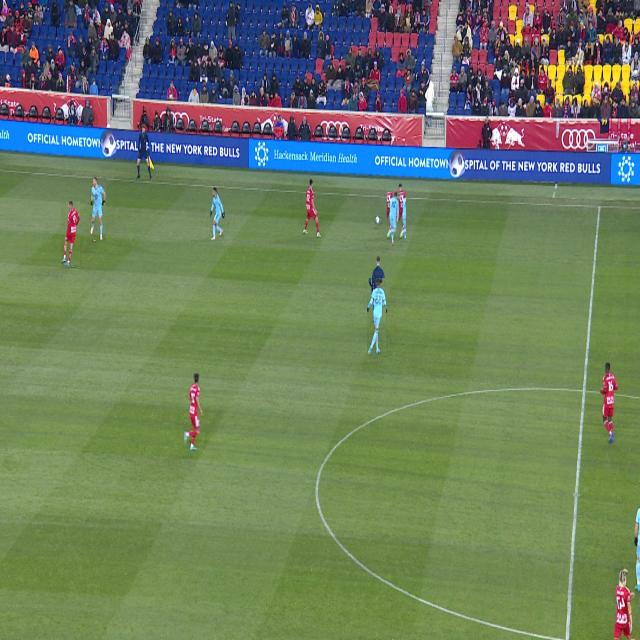football: (376, 217, 380, 224)
player: (614, 568, 635, 640), (184, 373, 203, 450), (600, 363, 618, 443), (368, 279, 386, 356), (61, 201, 80, 266), (303, 179, 321, 237), (90, 177, 106, 240), (393, 184, 406, 238), (211, 188, 224, 240), (387, 192, 399, 246), (634, 508, 640, 592), (380, 300, 381, 323), (394, 223, 397, 230)
referee: (372, 256, 385, 294)
